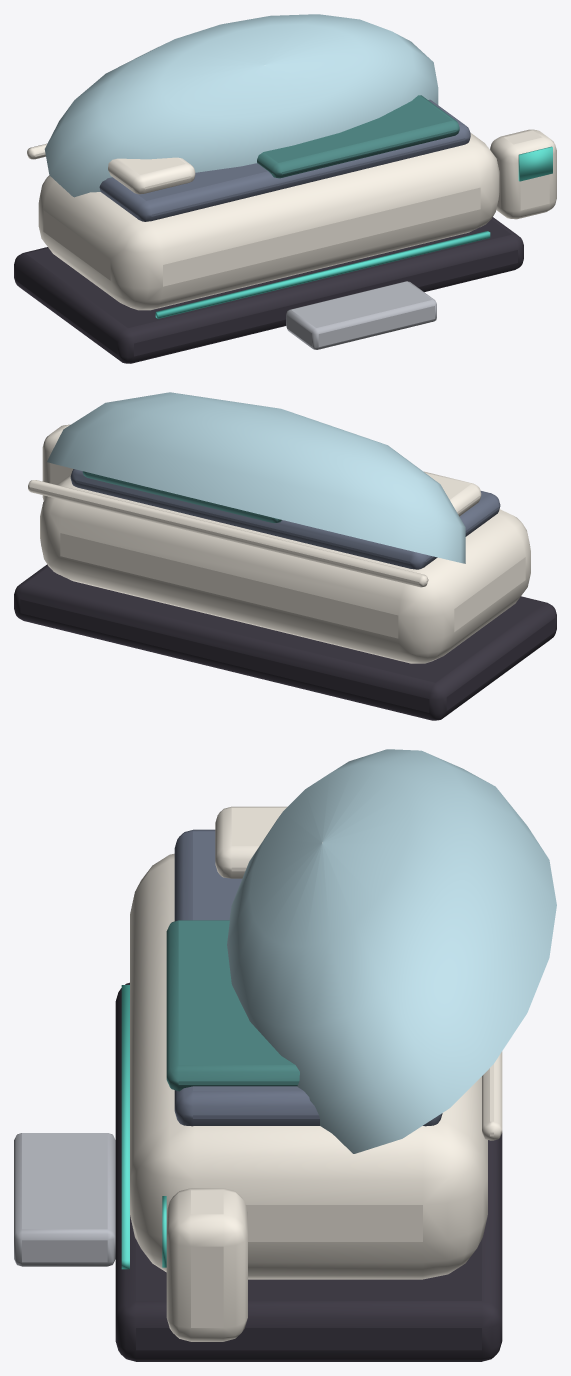
File: nap_pod_l3.glb
3 views of the same model, one above another, from view 1: azimuth 30°, elevation 25°; view 2: azimuth 150°, elevation 25°; view 3: azimuth 270°, elevation 25° (orthographic). The views are drawn at different scales.
Visible parts, largest first — view 1: nap_pod_l3, nap_pod_canopy, nap_pod_glow, nap_pod_screen_glow; view 2: nap_pod_l3, nap_pod_canopy; view 3: nap_pod_l3, nap_pod_canopy, nap_pod_glow.
Boxes of the visible parts, box(x1,y1,x2,y2) form: nap_pod_l3: box(14, 95, 556, 363); nap_pod_canopy: box(44, 14, 438, 197); nap_pod_glow: box(155, 231, 490, 318); nap_pod_screen_glow: box(518, 146, 552, 181); nap_pod_l3: box(14, 424, 556, 720); nap_pod_canopy: box(47, 392, 465, 563); nap_pod_l3: box(14, 806, 502, 1361); nap_pod_canopy: box(227, 749, 556, 1153); nap_pod_glow: box(121, 985, 129, 1269).
Bounding box in the file's own units: 2.19 × 1.04 × 1.33.
